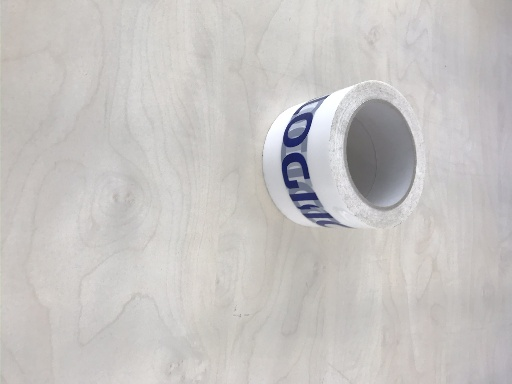Nastro: (260, 80, 426, 230)
